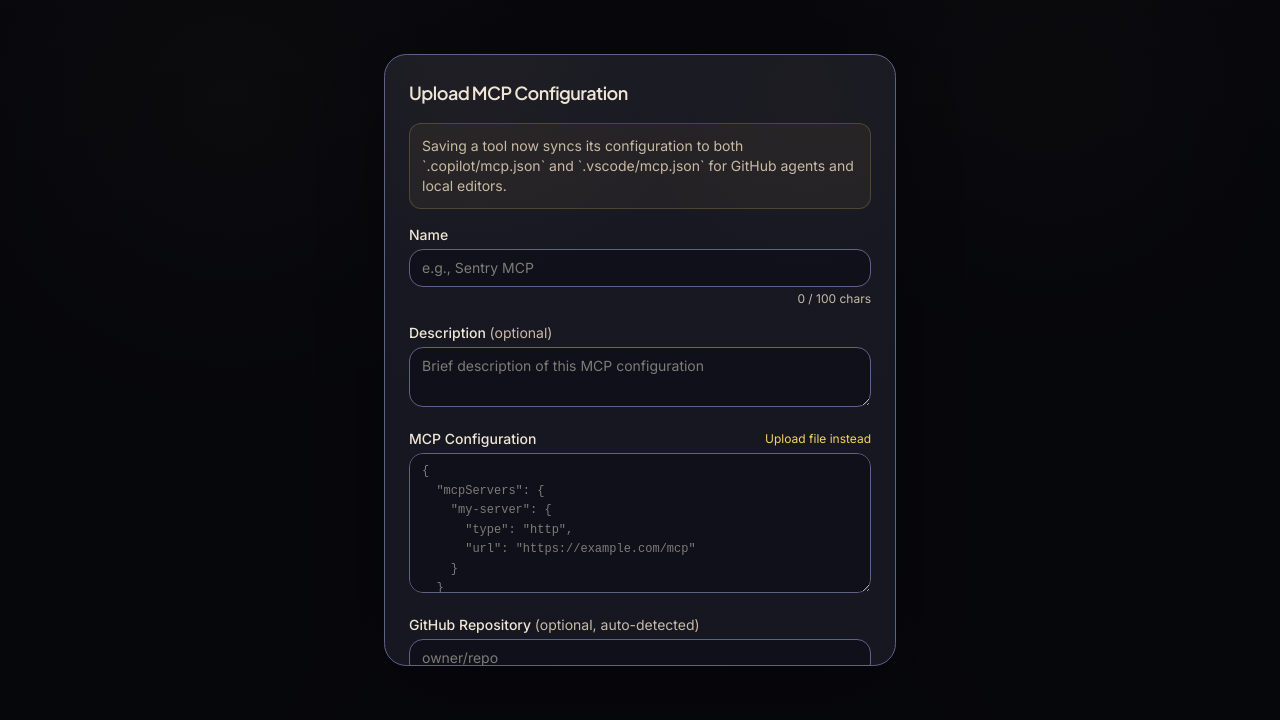
it: UploadMcpModal › toggles between paste and file upload mode
This screenshot has width=1280, height=720.
Click the button "Upload file instead". click: (818, 439)
box: [765,431,871,447]
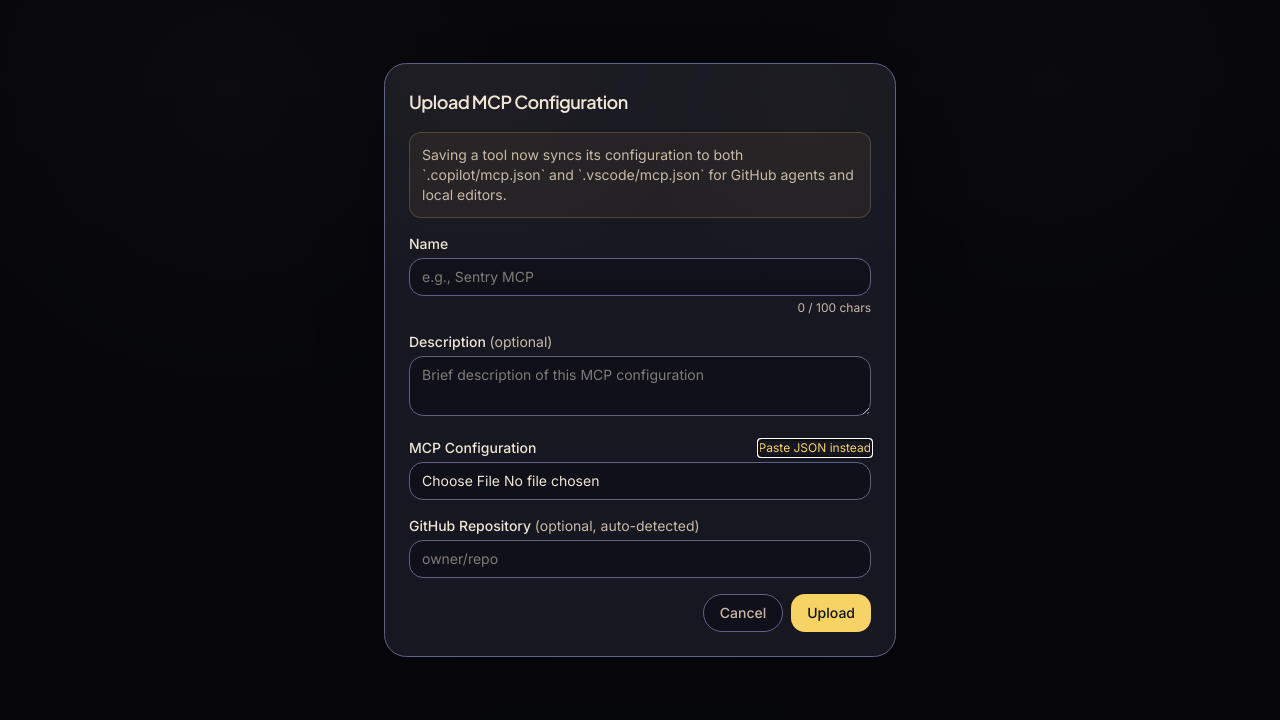
expect the button "Paste JSON instead" is shown: met, box [759,440,871,456]
